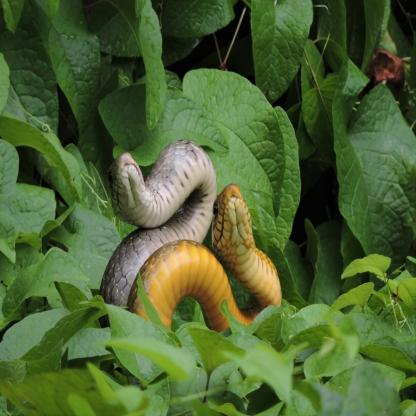Snake: (87, 130, 300, 362), (105, 145, 174, 230), (206, 181, 268, 268)
